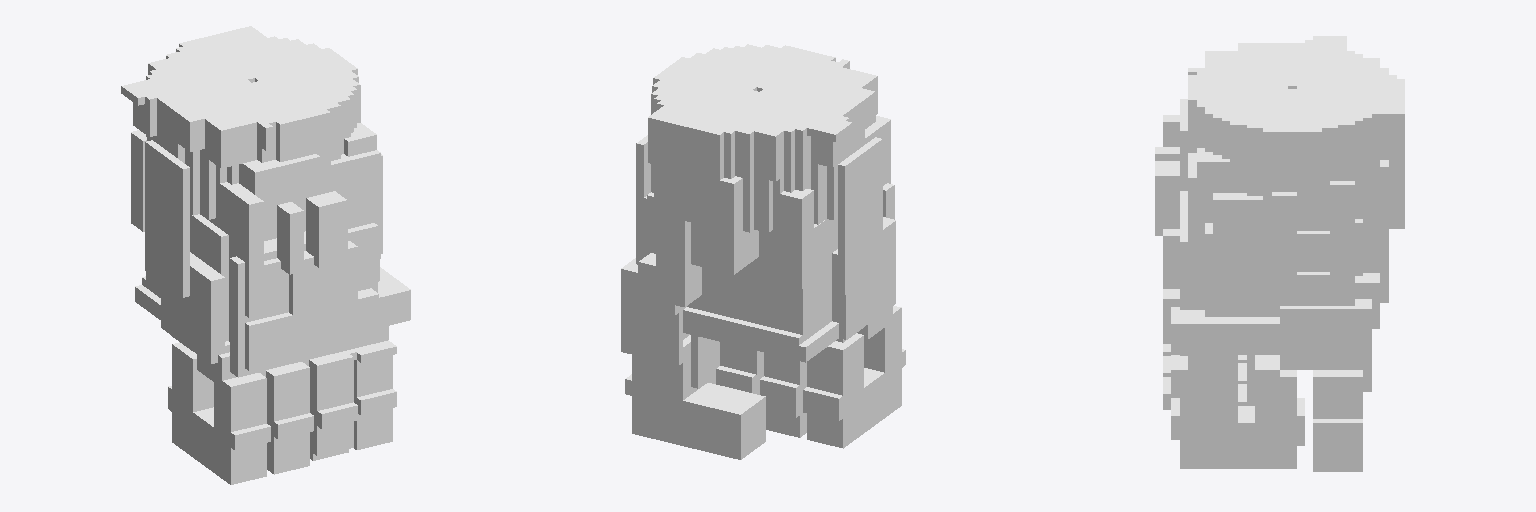
Rendered from Heavensfist.obj.
3 views of the same model, side by side, from view 1: azimuth 30°, elevation 25°; view 2: azimuth 150°, elevation 25°; view 3: azimuth 270°, elevation 25° (orthographic).
Size of the model in its own units: 28 by 45 by 30.